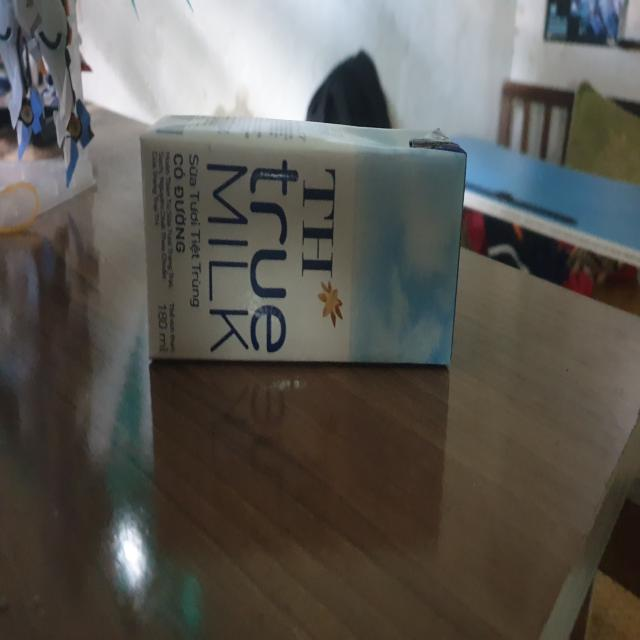TH: (141, 115, 468, 369)
